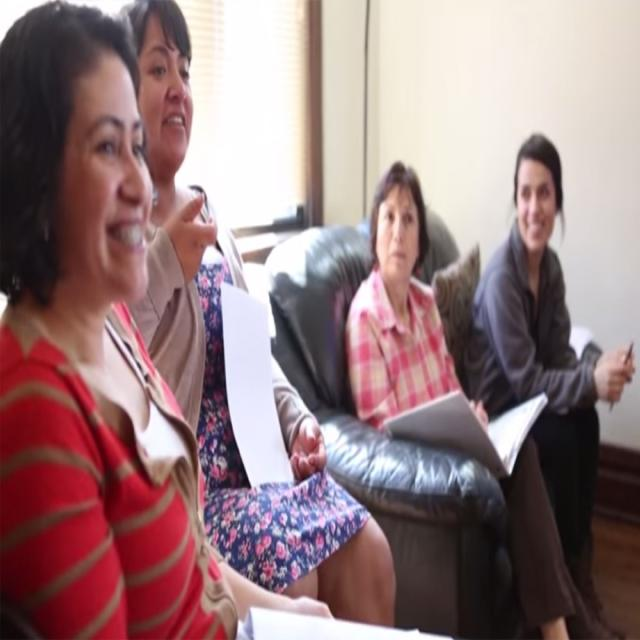body: (115, 0, 398, 629), (107, 0, 369, 626), (346, 157, 578, 640), (470, 130, 637, 628)
